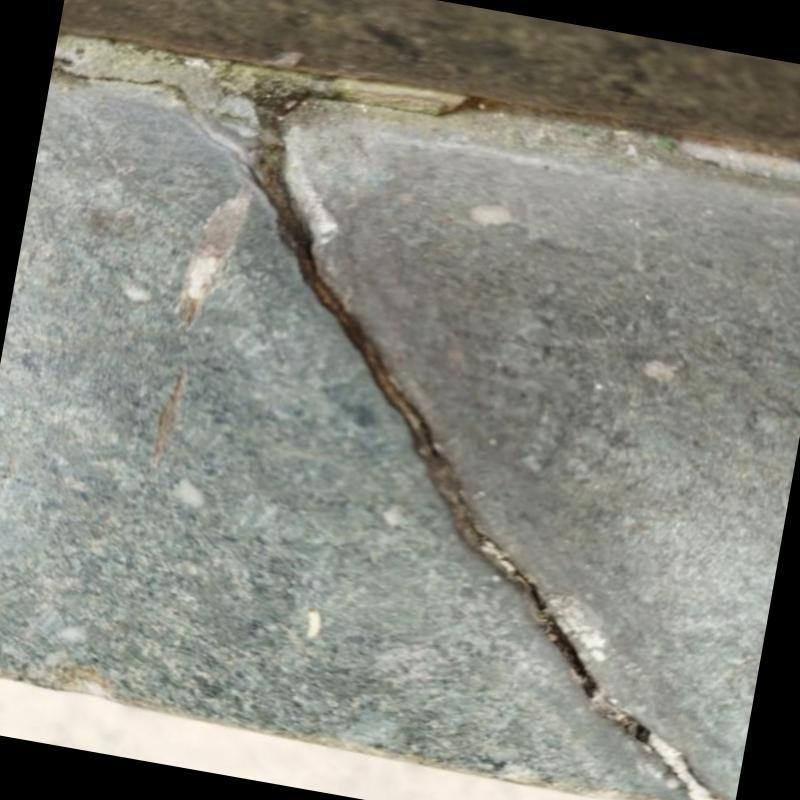crack: (253, 145, 712, 798)
